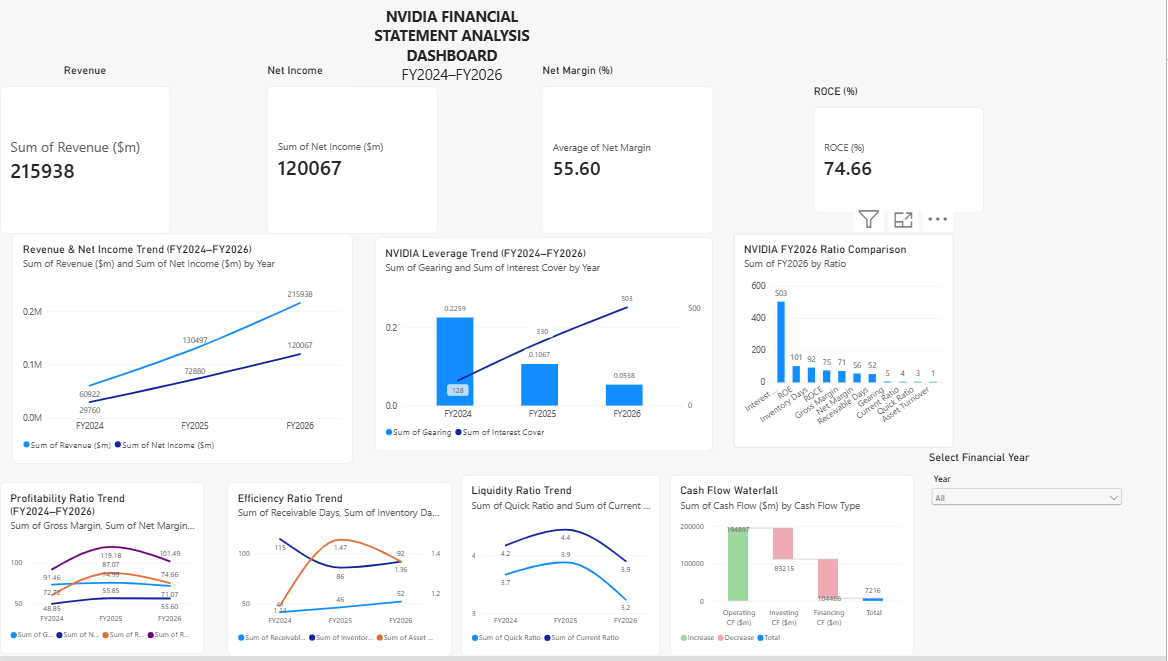

The dashboard page shown, as its layout file describes it:
{"tool":"powerbi","page":{"name":"Page 1","canvas":[1920,1080],"ordinal":0},"visuals":[{"type":"cardVisual","title":"Revenue","fields":{"Data":["Sum(Revenue Trend.Revenue ($m))"]},"box":[0,105,280,280],"z":0},{"type":"cardVisual","title":"Net Income","fields":{"Data":["Sum(Revenue Trend.Net Income ($m))"]},"box":[440.5,105,280,280],"z":1000},{"type":"cardVisual","title":"Net Margin (%)","fields":{"Data":["Avg(Profitability Trend.Net Margin)"]},"box":[893.3,105,280,280],"z":2000},{"type":"cardVisual","title":"ROCE (%)","fields":{"Data":["Min(Profitability Trend.ROCE)"]},"box":[1340,140,280,210],"z":3000},{"type":"lineChart","title":"Revenue & Net Income Trend (FY2024–FY2026)","fields":{"Category":["Revenue Trend.Year"],"Y":["Sum(Revenue Trend.Revenue ($m))","Sum(Revenue Trend.Net Income ($m))"]},"box":[20.6,384.9,539.3,358.1],"z":4000},{"type":"lineChart","title":"Profitability Ratio Trend (FY2024–FY2026)","fields":{"Category":["Profitability Trend.Year"],"Y":["Sum(Profitability Trend.Gross Margin)","Sum(Profitability Trend.Net Margin)","Sum(Profitability Trend.ROCE)","Sum(Profitability Trend.ROE)"]},"box":[0,794.5,335.5,282],"z":5000},{"type":"lineChart","title":"Liquidity Ratio Trend","fields":{"Category":["Liquidity Trend.Year"],"Y":["Sum(Liquidity Trend.Quick Ratio)","Sum(Liquidity Trend.Current Ratio)"]},"box":[759.5,782.2,327.3,298.5],"z":6000},{"type":"lineChart","title":"Efficiency Ratio Trend","fields":{"Category":["4  Efficiency Trend 4A  Working Capital Efficiency (Dashboard Data).Year"],"Y":["Sum(4  Efficiency Trend 4A  Working Capital Efficiency (Dashboard Data).Receivable Days)","Sum(4  Efficiency Trend 4A  Working Capital Efficiency (Dashboard Data).Inventory Days)"],"Y2":["Sum(4B  Asset Turnover (Dashboard Data).Asset Turnover)"]},"box":[374.6,794.5,368.4,286.1],"z":7000},{"type":"lineClusteredColumnComboChart","title":"NVIDIA Leverage Trend (FY2024–FY2026)","fields":{"Category":["5B  Interest Cover Trend (Dashboard Data).Year"],"Y":["Sum(5  Leverage Trend 5A  Gearing Trend (Dashboard Data).Gearing)"],"Y2":["Sum(5B  Interest Cover Trend (Dashboard Data).Interest Cover)"]},"box":[617.5,391.1,555.7,352],"z":8000},{"type":"waterfallChart","title":"Cash Flow Waterfall ","fields":{"Category":["6  Cash Flow Trend (Dashboard Data).Cash Flow Type"],"Y":["Sum(6  Cash Flow Trend (Dashboard Data).Cash Flow ($m))"]},"box":[1103.3,782.2,401.4,298.5],"z":9000},{"type":"slicer","title":"Select Financial Year","fields":{"Values":["Revenue Trend.Year"]},"box":[1529.3,743.1,323.2,275.8],"z":10000},{"type":"textbox","box":[580.4,10.3,327.3,269.6],"z":11000},{"type":"clusteredColumnChart","title":"NVIDIA FY2026 Ratio Comparison","fields":{"Category":["Ratios.Ratio"],"Y":["Sum(Ratios.FY2026)"]},"box":[1208.2,384.9,362,352],"z":12000}]}

Visuals, with their boxes in screenshot pixels (x1, y1, x2, y2), scaled from the page's 1920x1080 canvas onto the 1168x661 screenshot:
"Revenue" cardVisual: <region>0, 64, 170, 236</region>
"Net Income" cardVisual: <region>268, 64, 438, 236</region>
"Net Margin (%)" cardVisual: <region>543, 64, 714, 236</region>
"ROCE (%)" cardVisual: <region>815, 86, 985, 214</region>
"Revenue & Net Income Trend (FY2024–FY2026)" lineChart: <region>13, 236, 341, 455</region>
"Profitability Ratio Trend (FY2024–FY2026)" lineChart: <region>0, 486, 204, 659</region>
"Liquidity Ratio Trend" lineChart: <region>462, 479, 661, 660</region>
"Efficiency Ratio Trend" lineChart: <region>228, 486, 452, 660</region>
"NVIDIA Leverage Trend (FY2024–FY2026)" lineClusteredColumnComboChart: <region>376, 239, 714, 455</region>
"Cash Flow Waterfall " waterfallChart: <region>671, 479, 915, 660</region>
"Select Financial Year" slicer: <region>930, 455, 1127, 624</region>
textbox: <region>353, 6, 552, 171</region>
"NVIDIA FY2026 Ratio Comparison" clusteredColumnChart: <region>735, 236, 955, 451</region>
